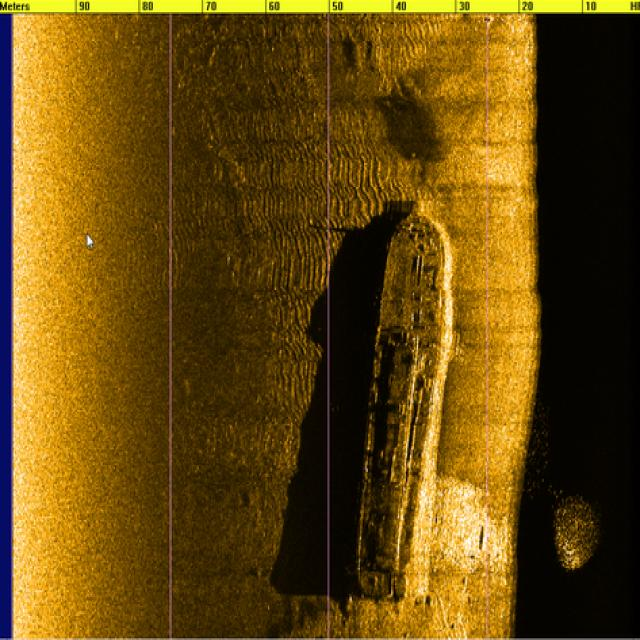ship: (337, 195, 464, 612)
